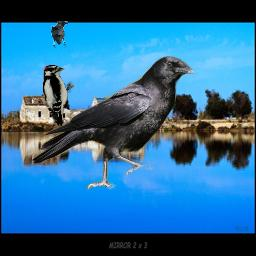Crow: (32, 55, 199, 192), (51, 20, 68, 48)
Woodpecker: (43, 65, 74, 126)
